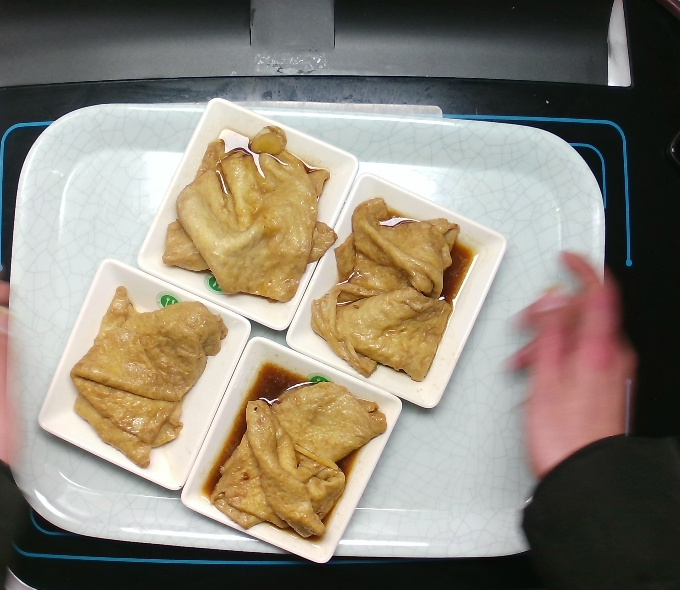wcq-YouDouFu: (199, 370, 396, 560), (150, 118, 347, 308), (60, 270, 236, 469), (303, 189, 471, 385)
